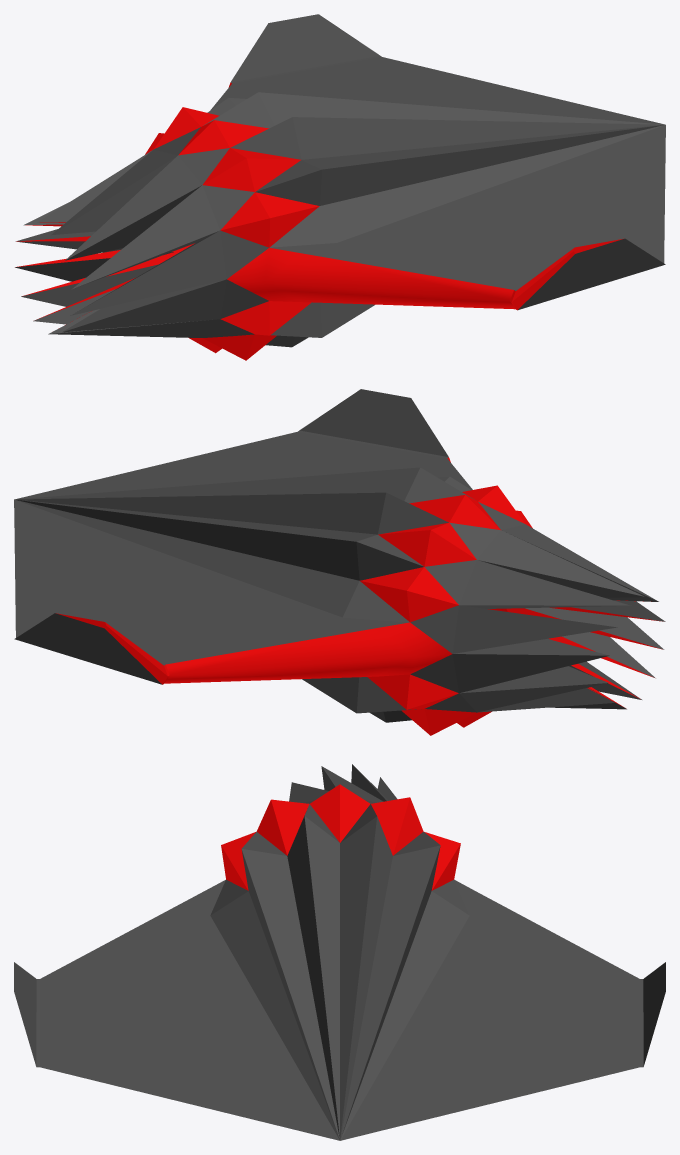
Rendered from Enemy_Large.fbx.
3 views of the same model, one above another, from view 1: azimuth 30°, elevation 25°; view 2: azimuth 150°, elevation 25°; view 3: azimuth 270°, elevation 25° (orthographic). The views are drawn at different scales.
Parts seen in each view (by area): view 1: Enemy_Large; view 2: Enemy_Large; view 3: Enemy_Large.
Part boxes in pixels (<box>): Enemy_Large: <box>15,14,665,360</box>; Enemy_Large: <box>14,389,665,735</box>; Enemy_Large: <box>14,764,665,1140</box>.
Bounding box in the file's own units: 162 × 58.13 × 138.
